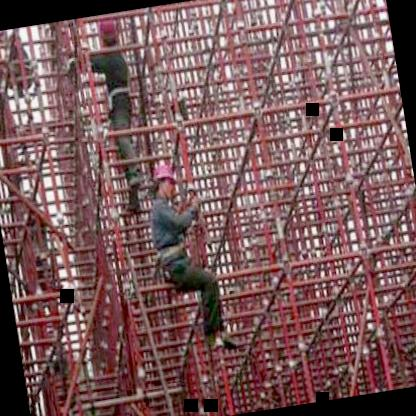helmet: (88, 12, 123, 54), (148, 158, 179, 204)
